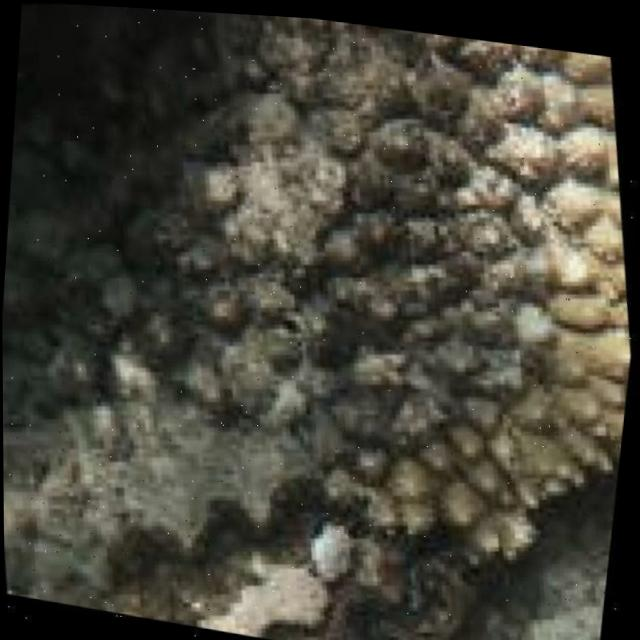Dead Coral: (69, 49, 542, 478)
